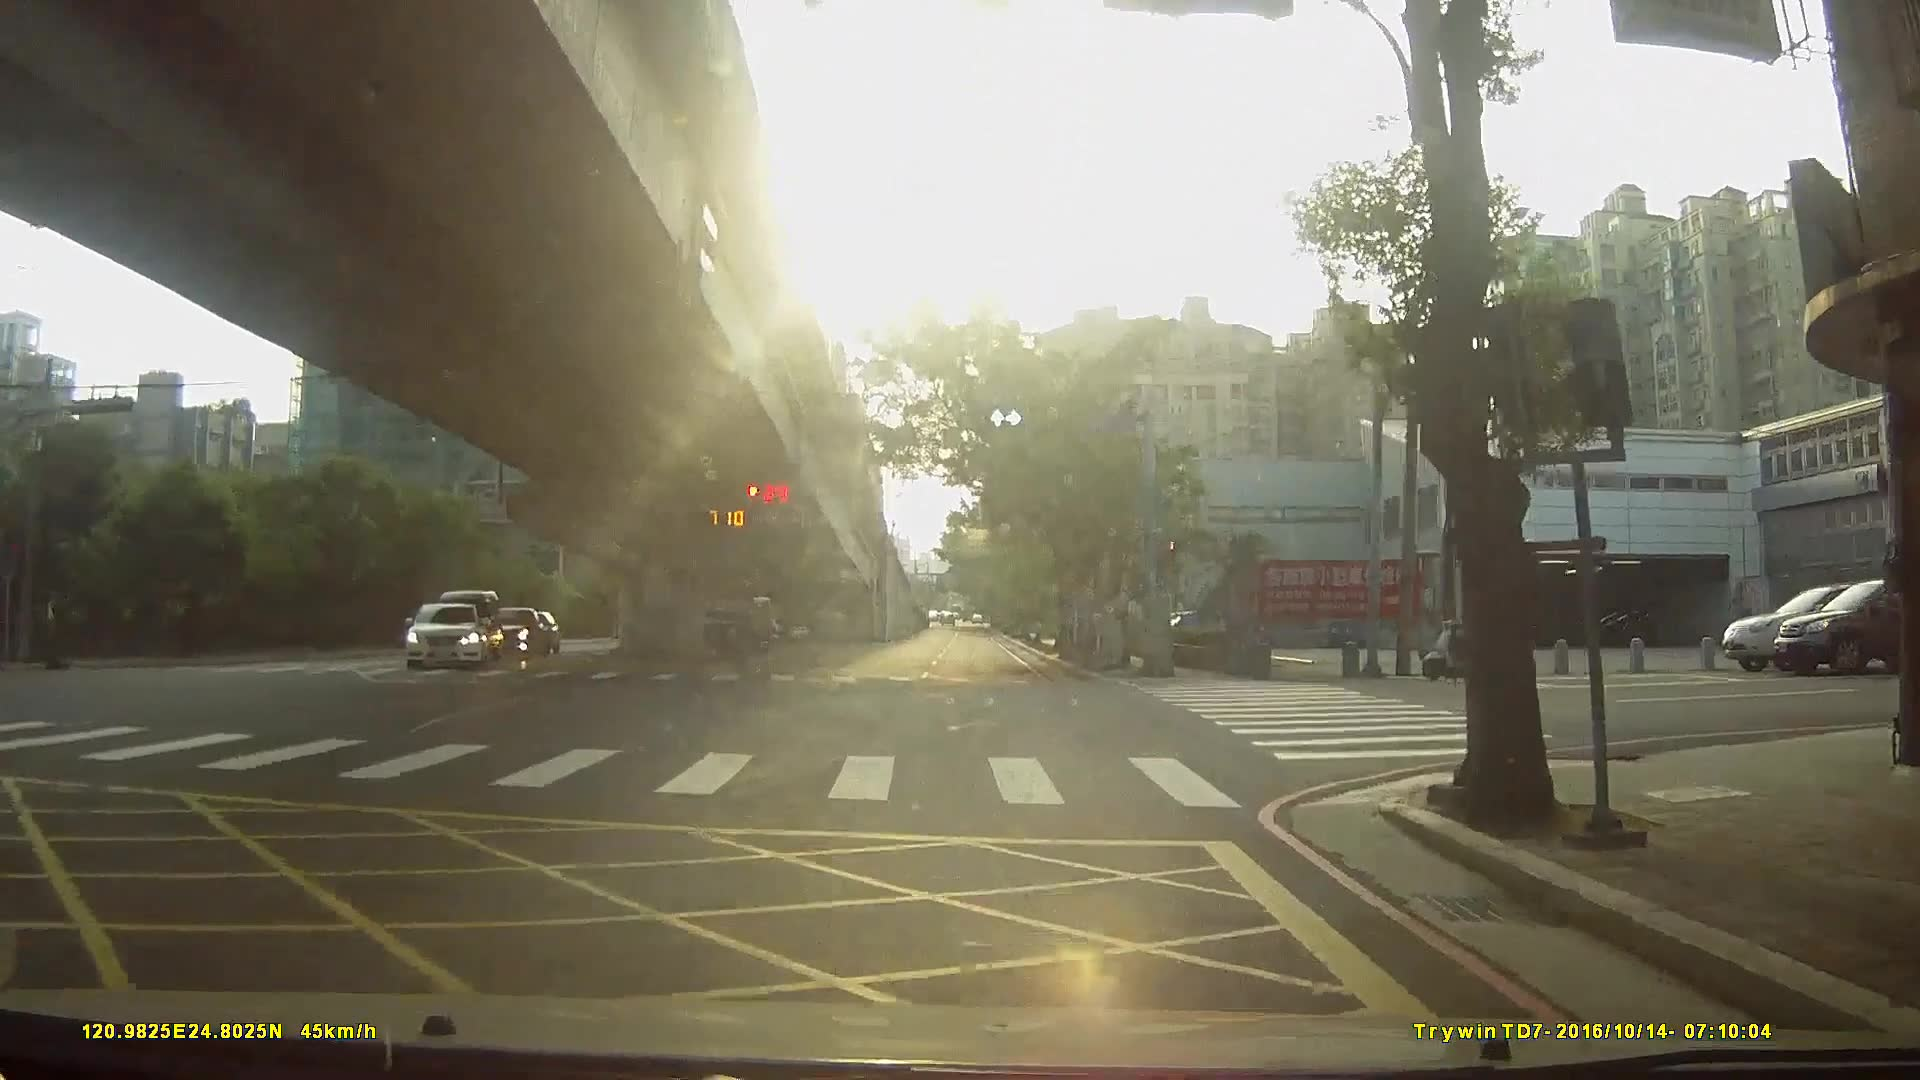rider: (1425, 598, 1506, 685)
vehicle: (1729, 579, 1916, 671), (1780, 575, 1920, 676), (398, 600, 483, 670), (673, 603, 773, 660), (474, 605, 544, 656)
